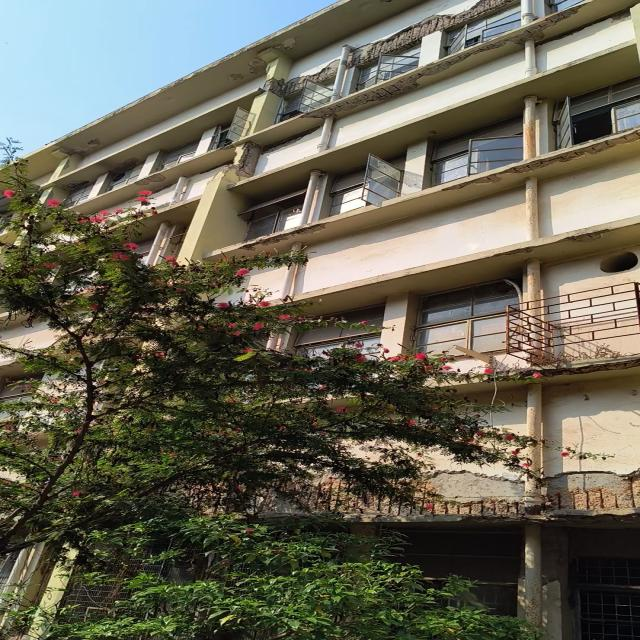Spalling: (300, 0, 581, 119), (439, 140, 617, 191), (341, 471, 534, 518), (539, 471, 639, 518), (501, 357, 639, 381), (239, 221, 327, 251), (285, 59, 338, 100), (233, 142, 261, 178)
